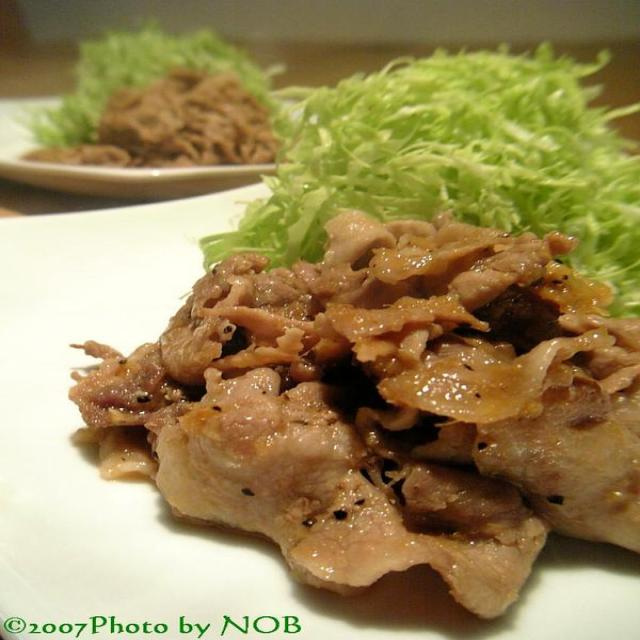猪肉菜式: (64, 96, 616, 321)
